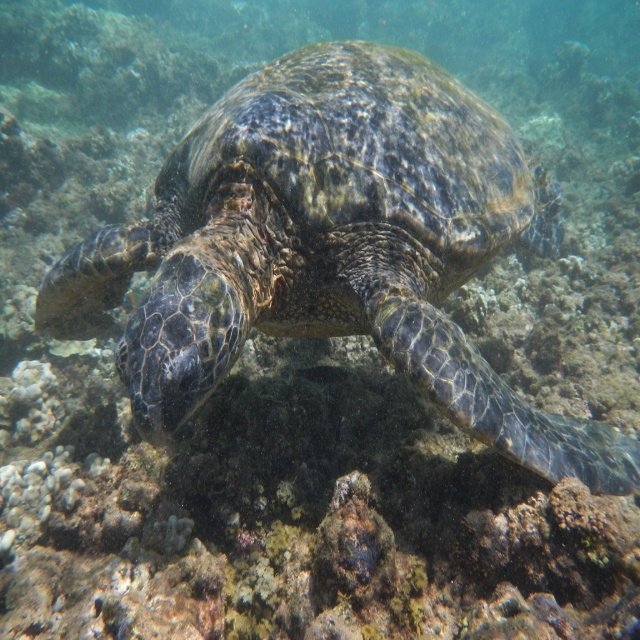Sea turtle: (36, 43, 640, 486)
